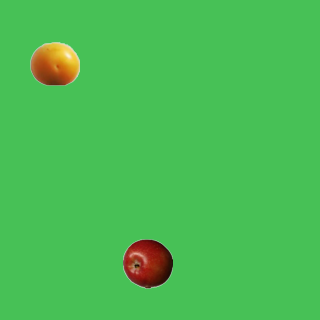Apple Braeburn: (122, 238, 172, 288)
Cherry Wax Yellow: (29, 38, 79, 88)
